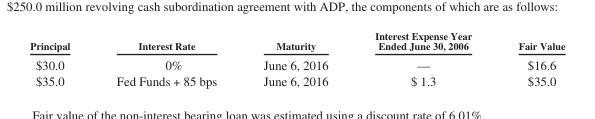table: (29, 29, 564, 87)
table column: (92, 29, 239, 87), (350, 29, 494, 87), (239, 29, 350, 87), (494, 29, 564, 87), (29, 29, 92, 87)
table column header: (29, 29, 564, 54)
table row: (29, 29, 564, 54), (29, 54, 564, 72), (29, 72, 564, 87)
